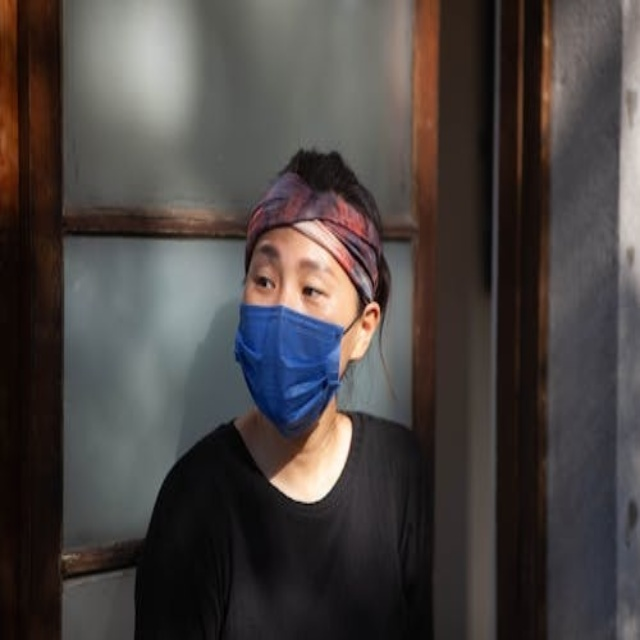Mascara: (235, 299, 354, 434)
Sin_gafas: (243, 240, 343, 308)
